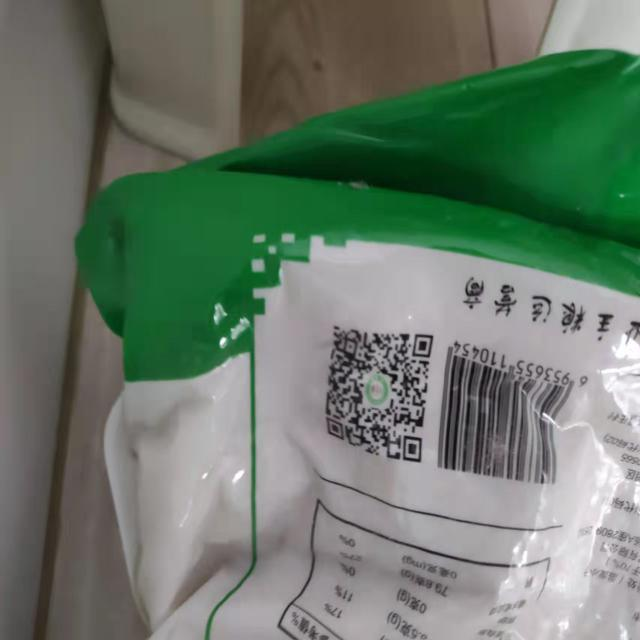qr_code: (325, 324, 435, 463)
